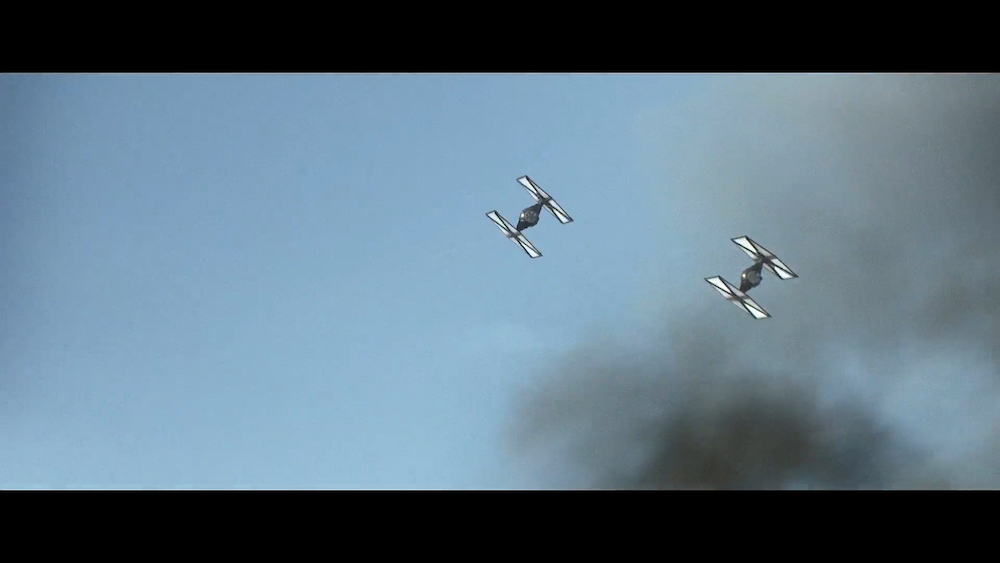Tie Fighter: (703, 235, 801, 322), (485, 174, 576, 261)
